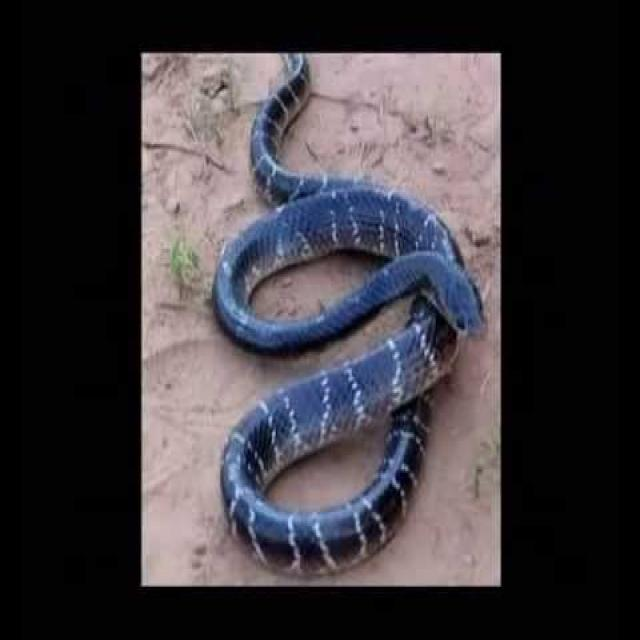Snake: (207, 55, 487, 580)
